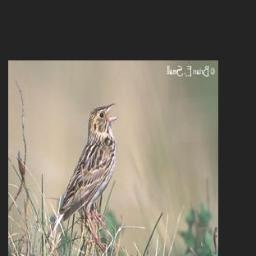Sparrow: (42, 99, 121, 253)
